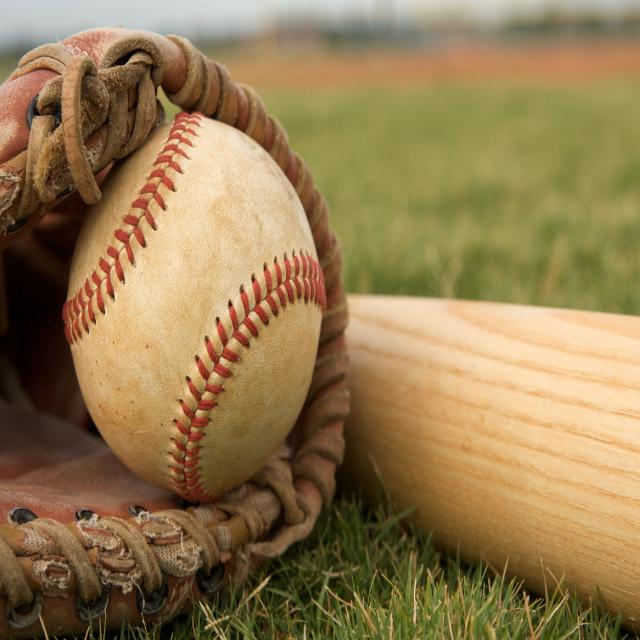baseball: (59, 110, 328, 500)
